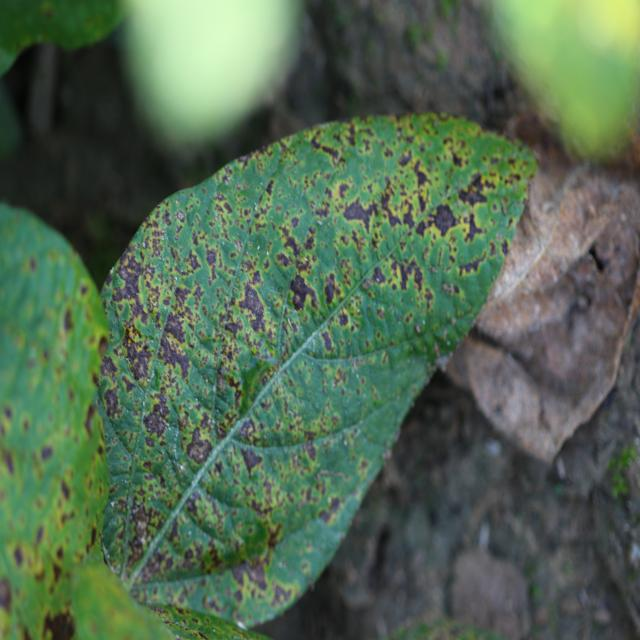Bacterial_Blight: (220, 431, 345, 533), (181, 482, 248, 545), (123, 499, 167, 565), (152, 322, 194, 384), (278, 229, 321, 284), (121, 324, 158, 383), (237, 357, 276, 411), (235, 279, 273, 333), (139, 218, 176, 270), (113, 258, 147, 308), (286, 269, 322, 309), (390, 258, 423, 294), (342, 196, 374, 232), (456, 178, 491, 210), (185, 426, 213, 465), (426, 202, 457, 236), (42, 609, 75, 640), (143, 403, 170, 440), (461, 208, 487, 244), (243, 561, 268, 591), (240, 445, 263, 476), (214, 367, 234, 402), (281, 233, 304, 263), (173, 284, 196, 314), (102, 384, 121, 420), (459, 253, 486, 275), (123, 323, 145, 350), (84, 402, 99, 439), (323, 276, 341, 305), (413, 165, 431, 194), (237, 417, 256, 443), (223, 317, 243, 339), (1, 447, 16, 476), (267, 523, 283, 549), (185, 250, 201, 273), (0, 578, 11, 610), (215, 414, 229, 439), (204, 245, 219, 268), (62, 306, 74, 332), (12, 544, 25, 567), (371, 266, 386, 285), (321, 331, 334, 352), (59, 479, 71, 501), (304, 231, 316, 251), (442, 281, 457, 297), (40, 444, 53, 462), (112, 272, 124, 289), (98, 334, 108, 354), (361, 277, 372, 290), (432, 342, 441, 356), (234, 240, 243, 253), (176, 210, 185, 222), (222, 173, 231, 185), (196, 631, 208, 640), (155, 317, 163, 329), (415, 322, 422, 334), (445, 336, 453, 346), (317, 218, 323, 226), (174, 198, 180, 204)
Soybean: (93, 113, 537, 640)
